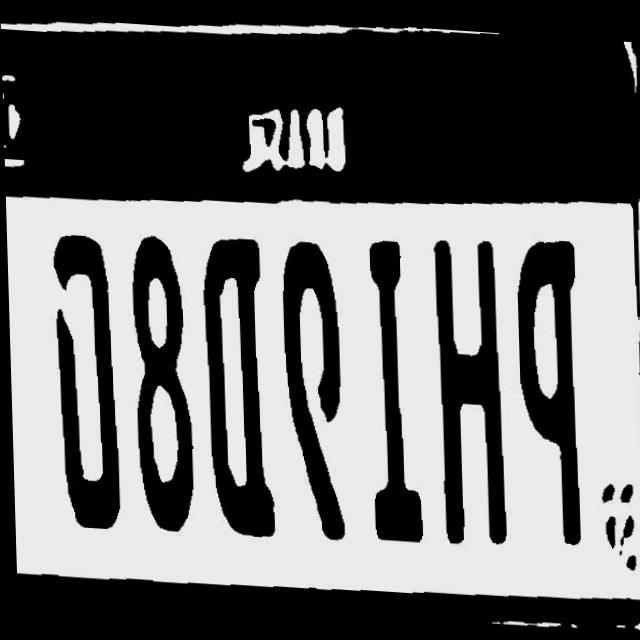0: (41, 209, 126, 531)
8: (112, 204, 197, 529)
9: (270, 223, 344, 542)
d: (195, 235, 278, 542)
h: (411, 224, 508, 561)
i: (341, 230, 422, 542)
p: (513, 222, 591, 557)
